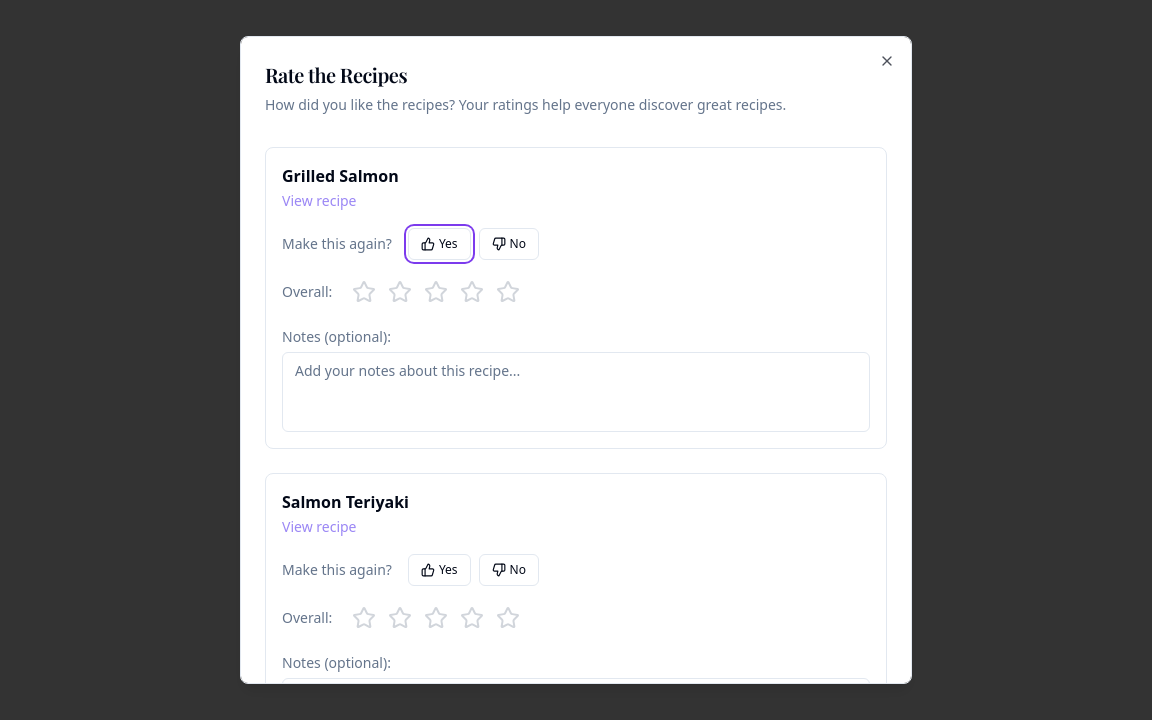
Scenario: EventRatingDialog › enables submit button when all recipes are rated
The image size is (1152, 720).
# Rate both recipes
Click the button "Yes" below "Grilled Salmon" at (439, 244), box top-left (408, 228), bottom-right (471, 260)
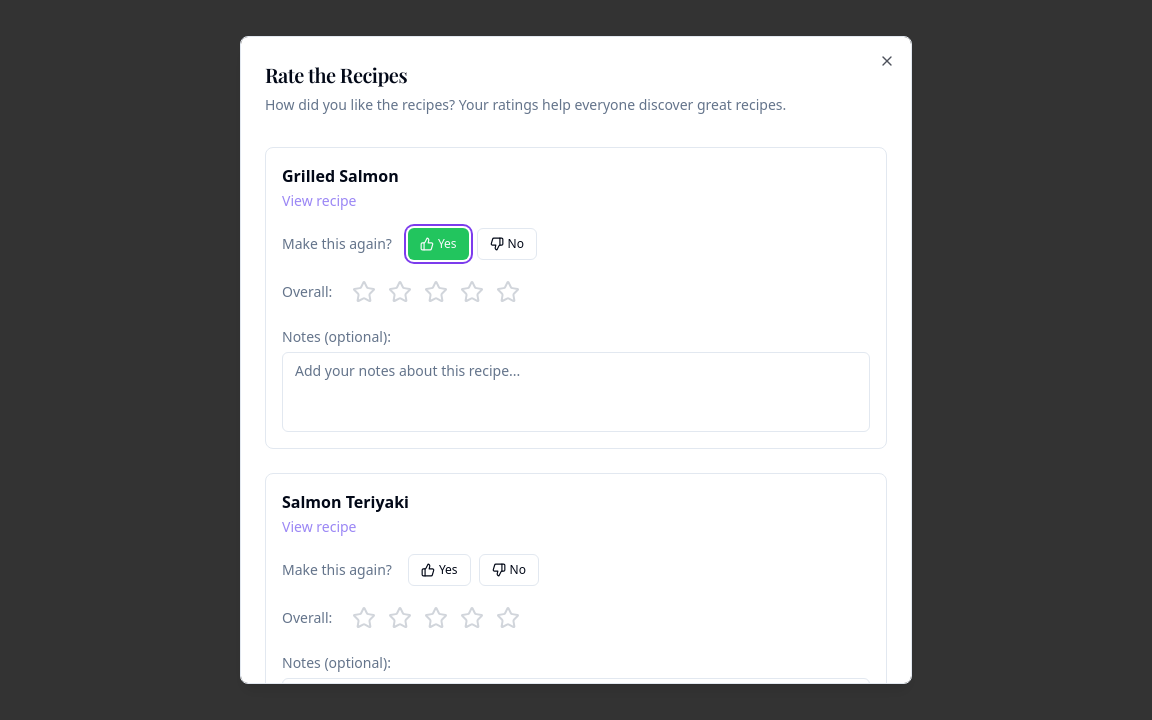
Click the button "Yes" below "Salmon Teriyaki" at (439, 570), box top-left (408, 554), bottom-right (471, 586)
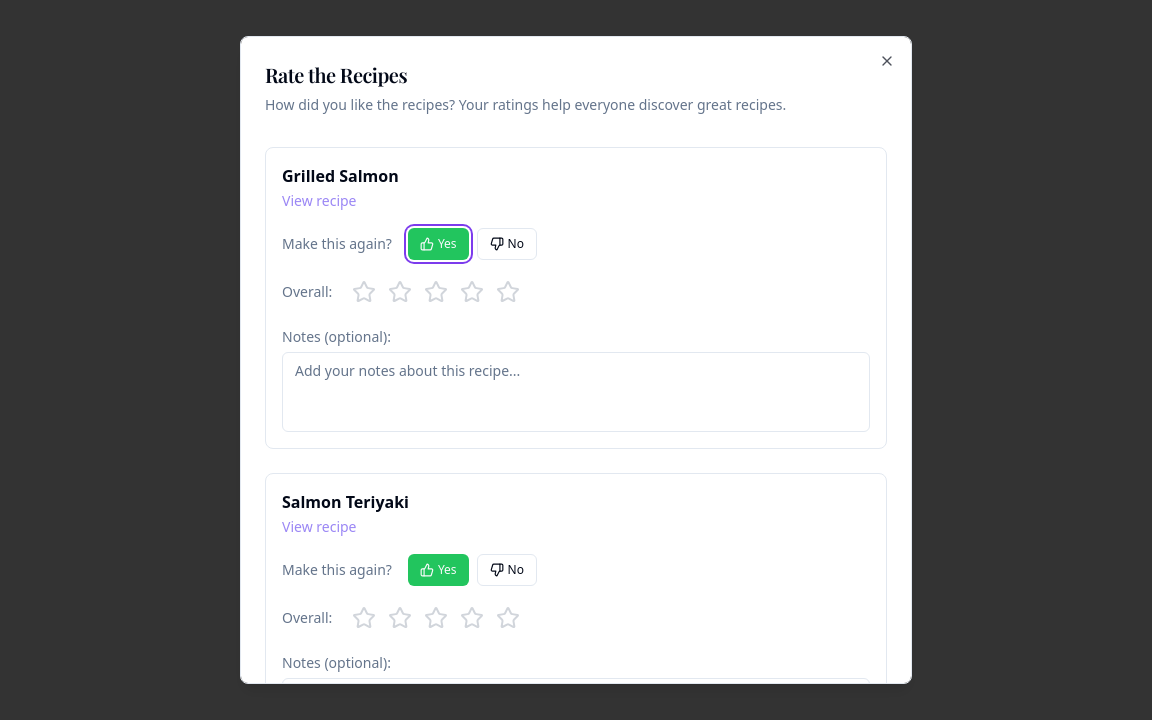
Click the button named "Rate 5 out of 5 stars" below "Grilled Salmon" at (508, 292), box top-left (492, 276), bottom-right (524, 308)
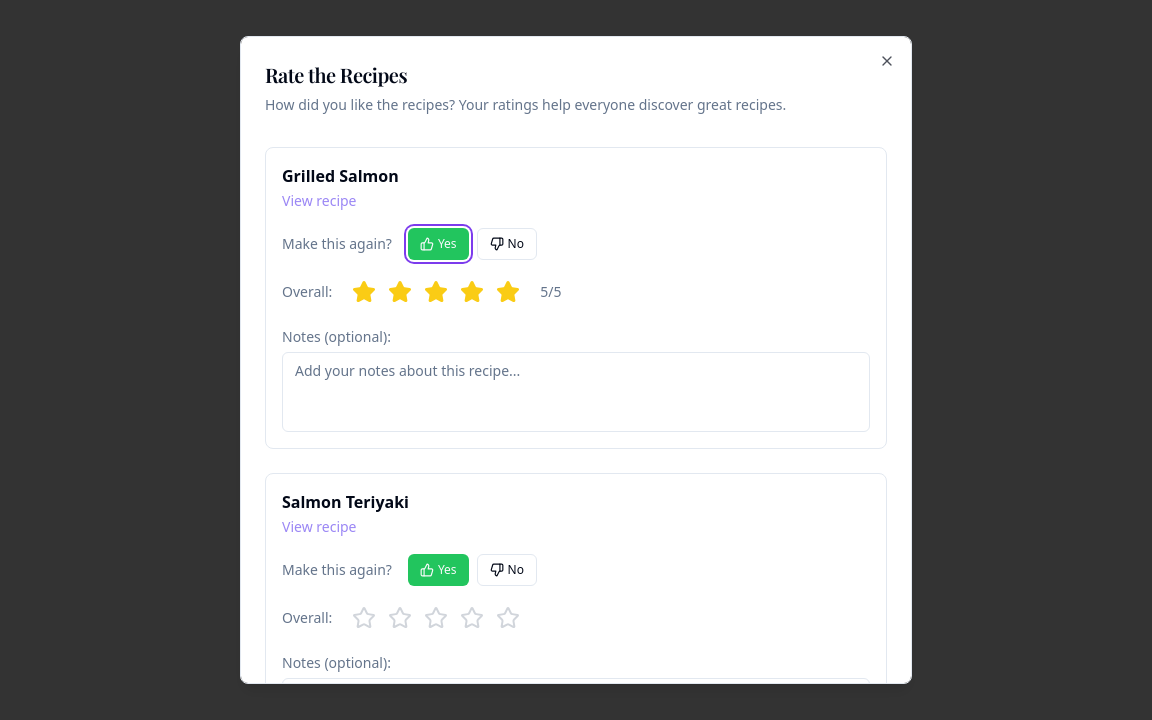
Click the button named "Rate 5 out of 5 stars" below "Salmon Teriyaki" at (508, 618), box top-left (492, 602), bottom-right (524, 634)
(page scrolled)
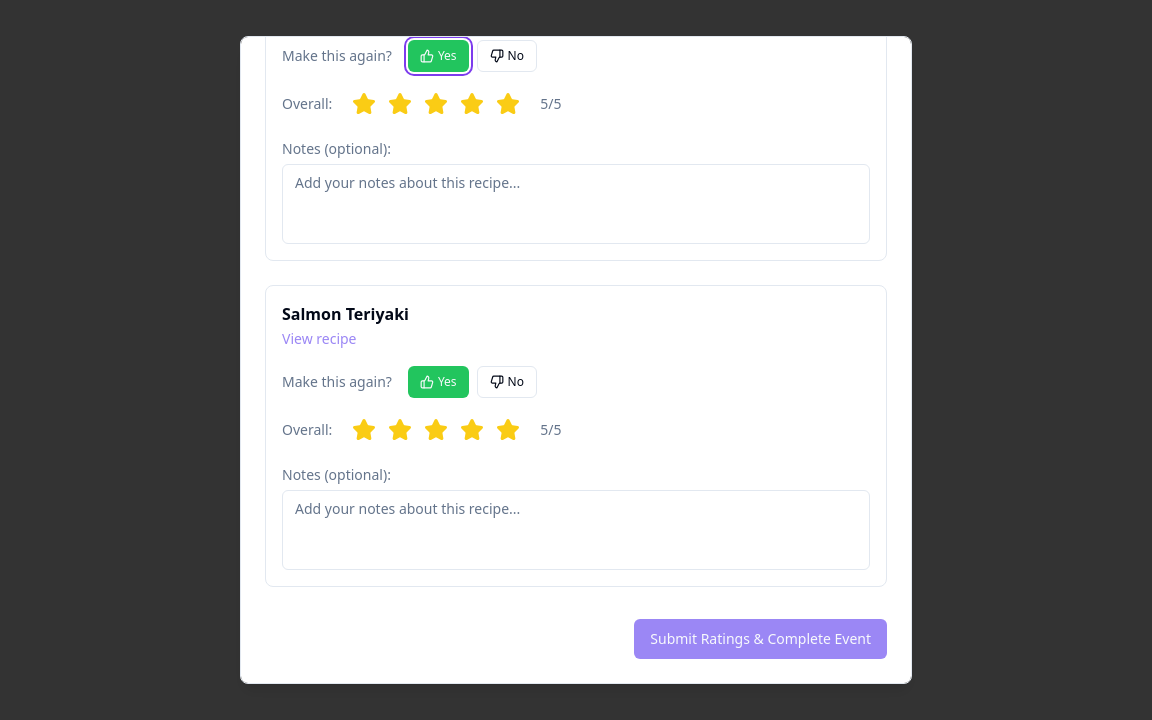
Now the button "Submit Ratings & Complete Event" is enabled, box top-left (634, 619), bottom-right (887, 659)
